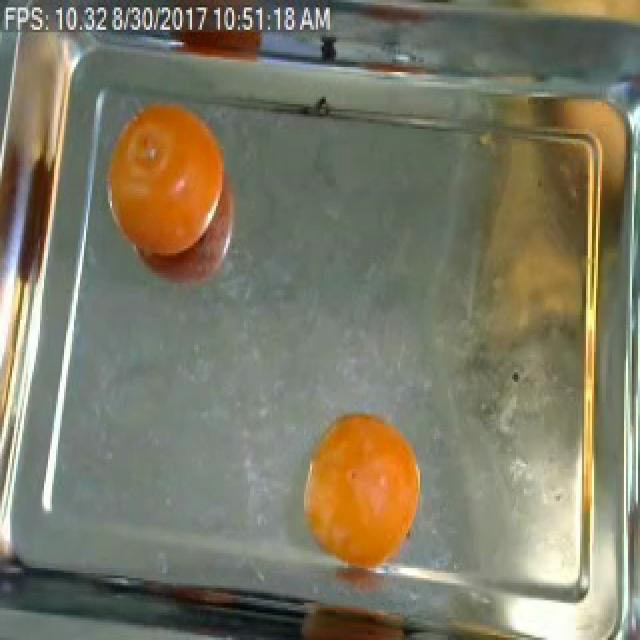Fruit: (90, 79, 256, 298), (286, 394, 440, 598), (290, 585, 416, 640)
